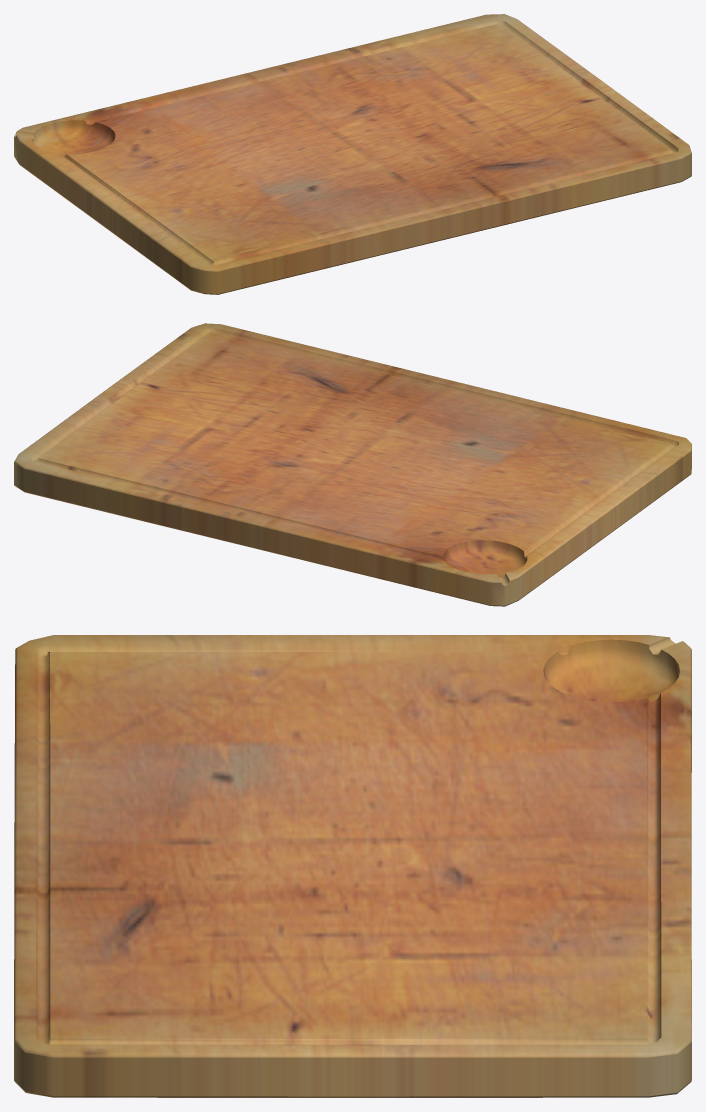
The model's file is Chopping_board.glb.
3 views of the same model, one above another, from view 1: azimuth 30°, elevation 25°; view 2: azimuth 150°, elevation 25°; view 3: azimuth 270°, elevation 25° (orthographic). The views are drawn at different scales.
Parts seen in each view (by area): view 1: plancheADecouper_obj_cleaner_materialmerger_gles; view 2: plancheADecouper_obj_cleaner_materialmerger_gles; view 3: plancheADecouper_obj_cleaner_materialmerger_gles.
Boxes of the visible parts, <box> form: plancheADecouper_obj_cleaner_materialmerger_gles: <box>14,14,691,294</box>; plancheADecouper_obj_cleaner_materialmerger_gles: <box>14,323,691,606</box>; plancheADecouper_obj_cleaner_materialmerger_gles: <box>14,635,691,1097</box>.
Size of the model in its own units: 3500 by 170 by 2380.
1 material, 1 textured.
